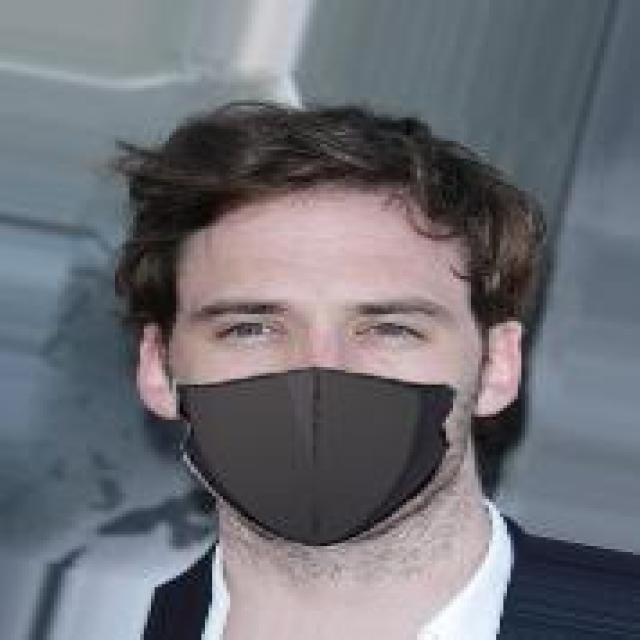mask: (111, 153, 561, 584)
